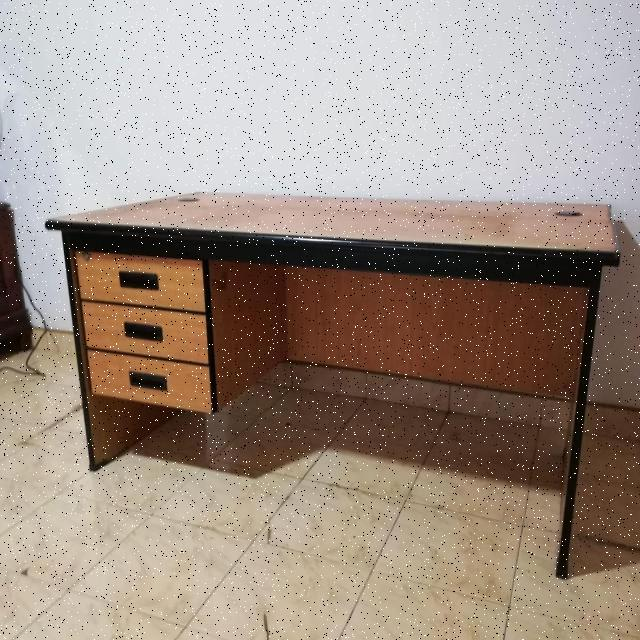mobile-phone: (47, 182, 620, 583)
